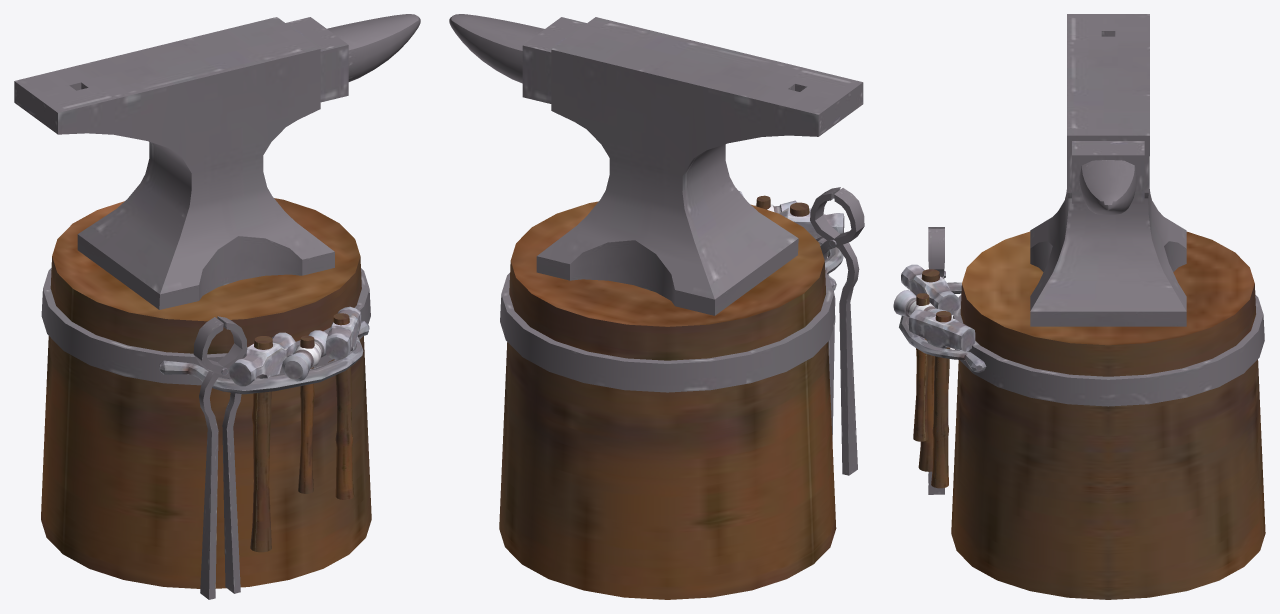
Rendered from anvil_log.glb.
3 views of the same model, side by side, from view 1: azimuth 30°, elevation 25°; view 2: azimuth 150°, elevation 25°; view 3: azimuth 270°, elevation 25° (orthographic). The views are drawn at different scales.
Parts seen in each view (by area): view 1: Anvil_Log; view 2: Anvil_Log; view 3: Anvil_Log.
Boxes of the visible parts, <box> form: Anvil_Log: <box>14,14,420,599</box>; Anvil_Log: <box>449,14,864,599</box>; Anvil_Log: <box>893,14,1265,599</box>.
Bounding box in the file's own units: 0.9292 × 1.07 × 0.8214.
Materials: 3 (3 with a texture image).
